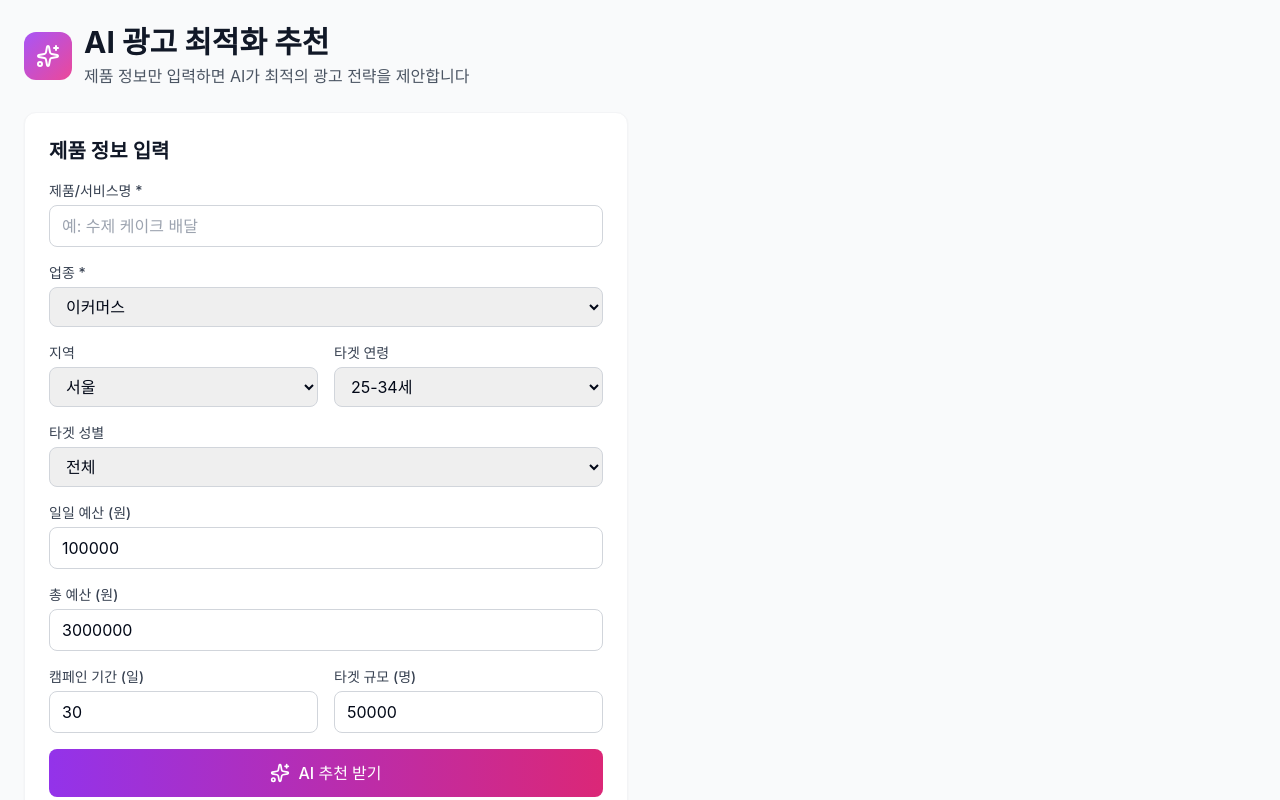
Test: AIRecommendationPage › 7. API 실패(500) → "추천 실패" 에러 박스 표시, 버튼 다시 활성화
The width and height of the screenshot is (1280, 800).
Type "수제 케이크" into the field with placeholder "예: 수제 케이크 배달".
click(326, 226); type("수제 케이크")  # box [49,205,603,247]
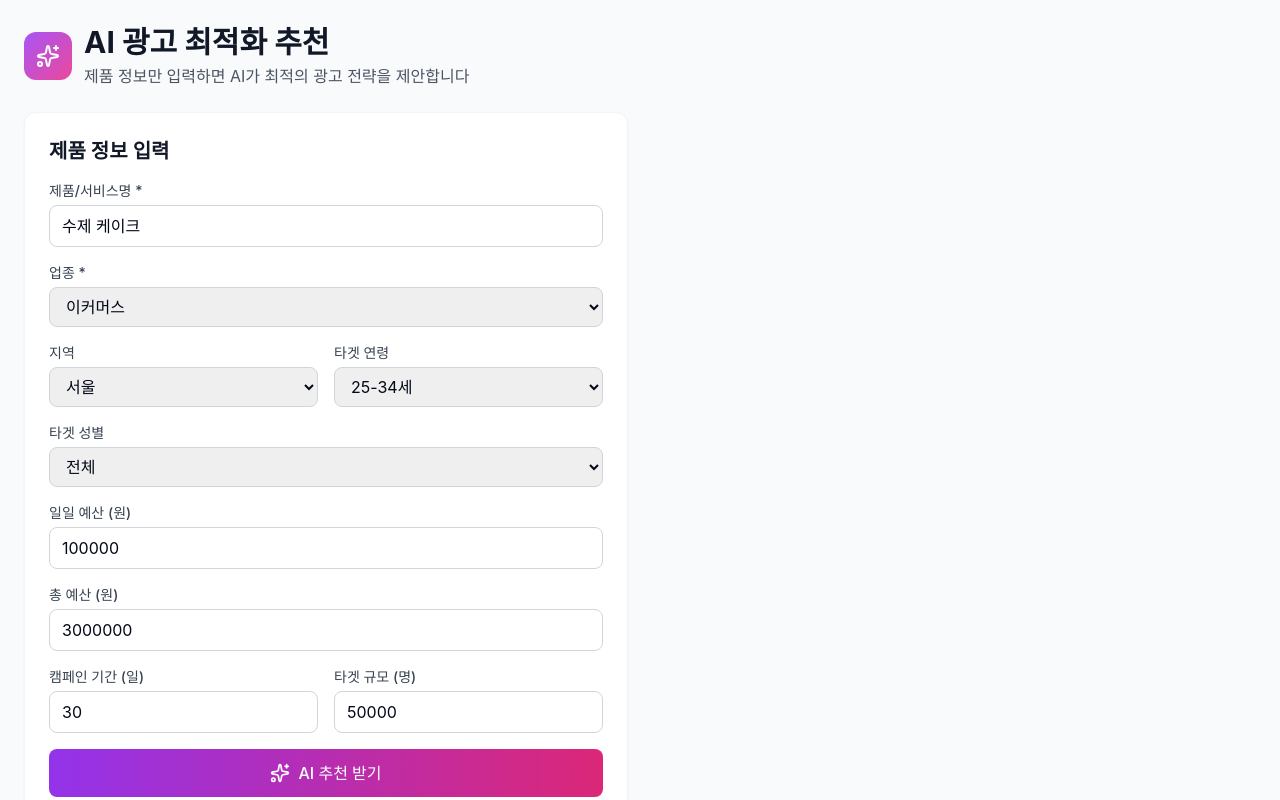
Click the button "AI 추천 받기".
click(326, 773)  # box [49,749,603,797]
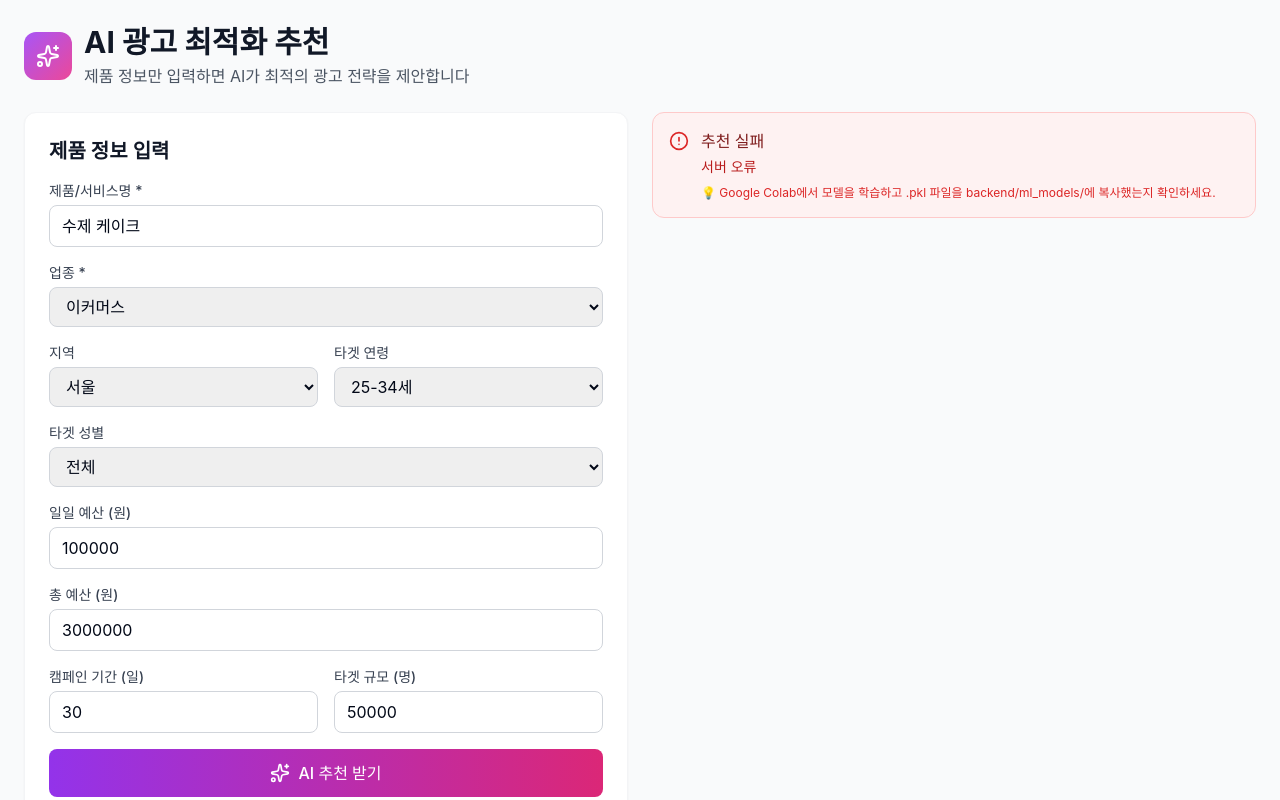
Result: the heading "추천 실패" is shown at [701,131,764,151]
